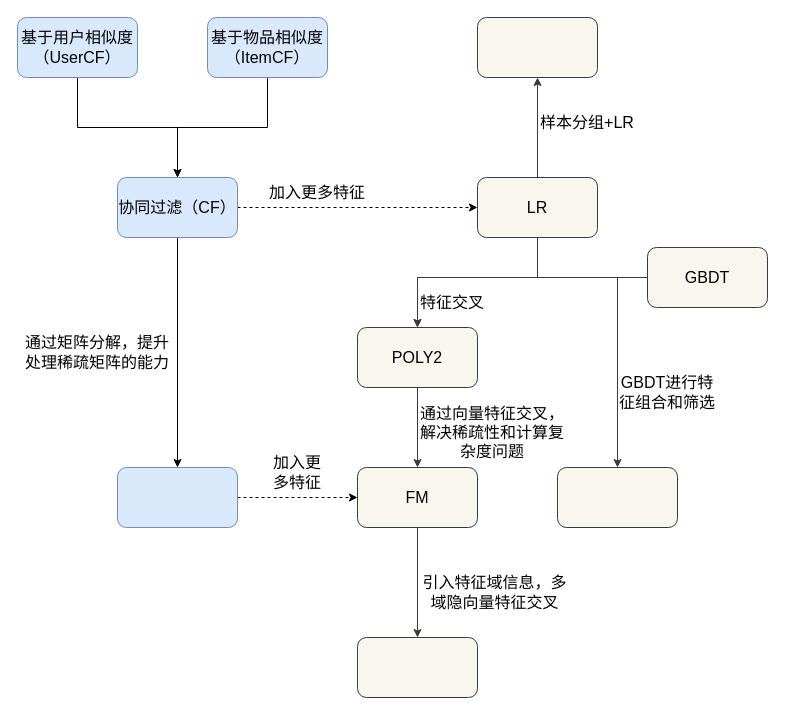
Some shapes in this 785 by 715 pixel diagram are drawn without their labels. Each missing label, with the centre of its shape:
"FFM" goes at pixel 417 667.
"GBDT+LR" goes at pixel 617 497.
"LS-PLM" goes at pixel 537 47.
"MF" goes at pixel 177 497.
